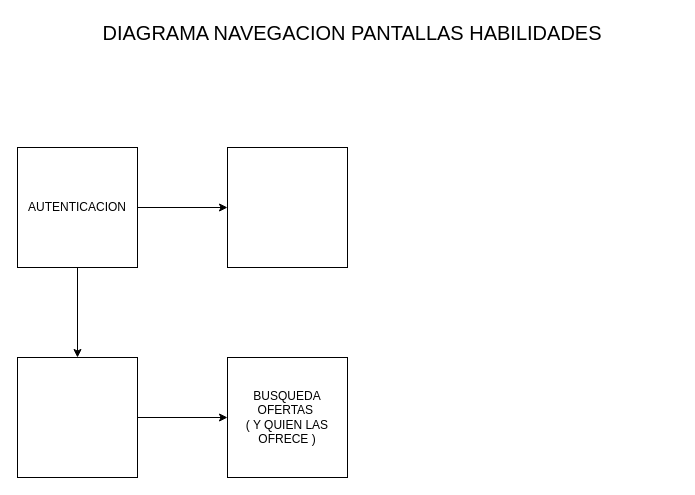
The diagram is 695 pixels wide and 495 high, and some of its shapes have lost their labels. The shapes that lost their labels are listed below. From the top down, each one's centre as x and y in pixels, then its label:
At [287,207]: "REGISTRO".
At [77,417]: "PERFIL (ABMC HABILIDADES OFERTADAS Y DEMANDADAS)".
